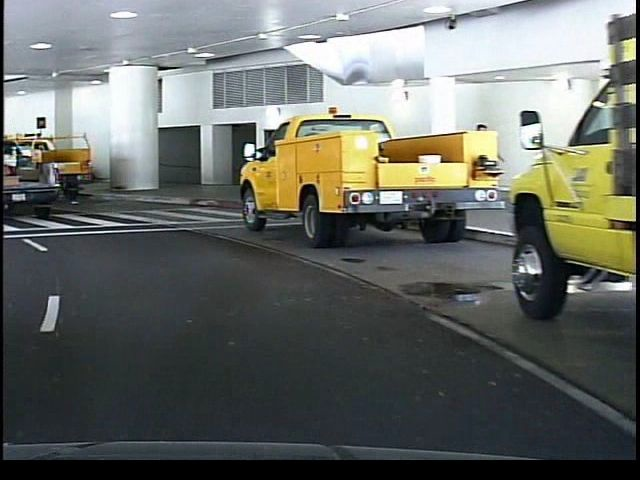person: (463, 114, 495, 216)
